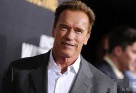male: (48, 3, 95, 64)
